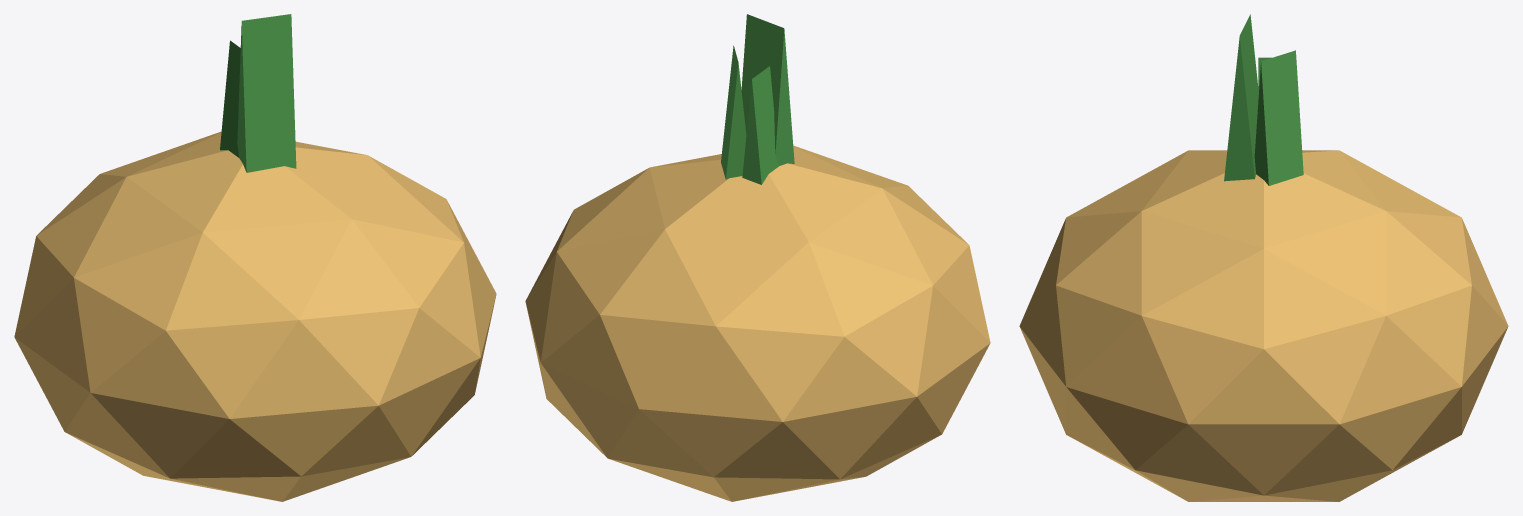
The model's file is SM_Onion.fbx.
The picture shows the model from 3 angles, left to right: view 1: azimuth 30°, elevation 25°; view 2: azimuth 150°, elevation 25°; view 3: azimuth 270°, elevation 25°; orthographic projection. The views are drawn at different scales.
Parts seen in each view (by area): view 1: onion; view 2: onion; view 3: onion.
Part boxes in pixels (bbox=[...]): onion: bbox=[14, 14, 496, 501]; onion: bbox=[525, 14, 990, 501]; onion: bbox=[1019, 14, 1508, 501].
Size of the model in its own units: 40.17 by 42.68 by 42.24.
